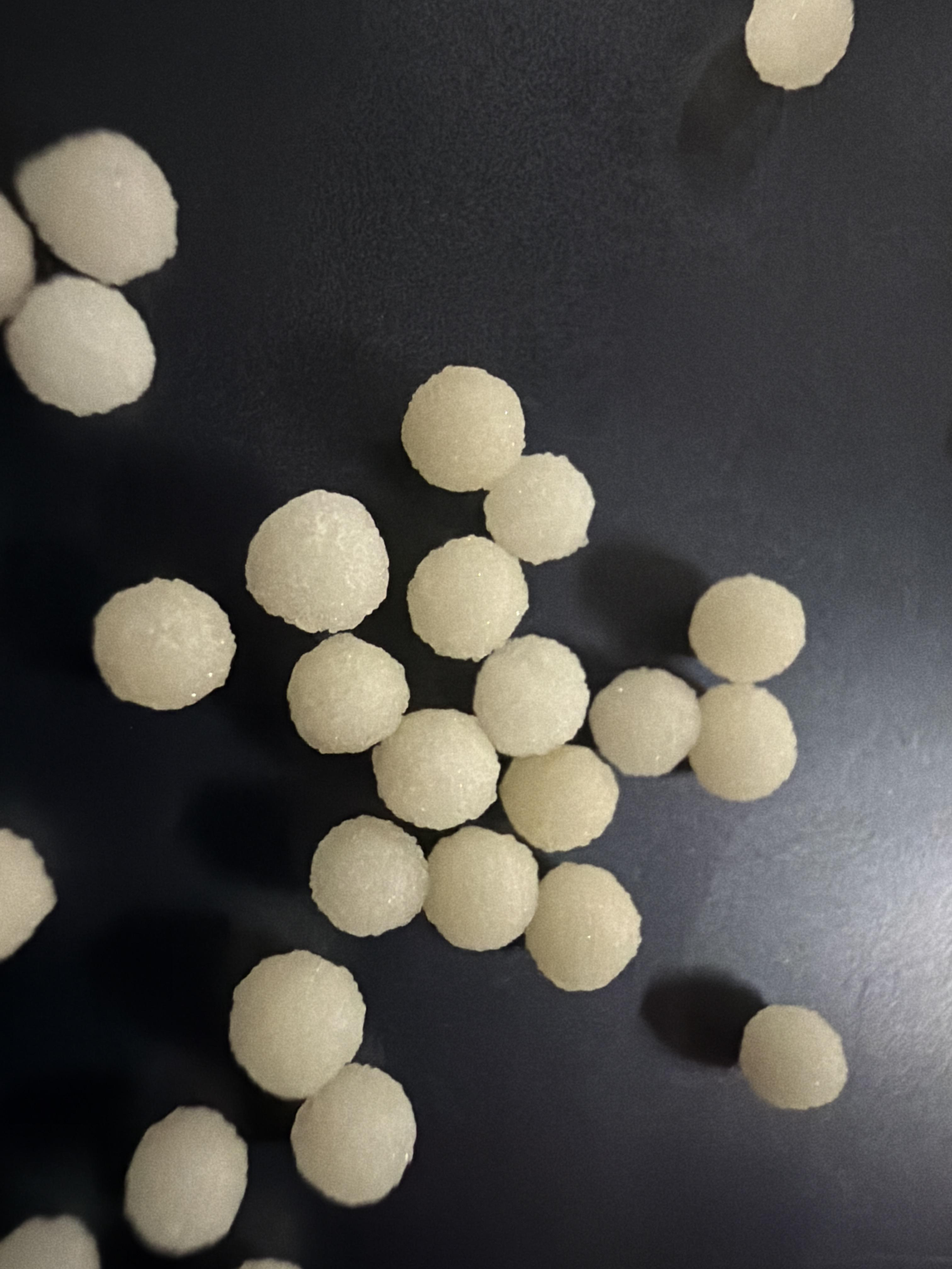pill: (15, 130, 177, 285), (6, 274, 155, 416), (246, 490, 388, 633), (230, 950, 365, 1099), (93, 578, 235, 710), (124, 1107, 247, 1256), (291, 1063, 416, 1206), (372, 709, 500, 829), (402, 366, 524, 491), (407, 535, 529, 660), (287, 633, 409, 753), (526, 862, 640, 990), (310, 815, 428, 937), (473, 635, 589, 756), (424, 826, 537, 950), (689, 684, 797, 801), (499, 745, 618, 851), (689, 574, 805, 682), (484, 453, 595, 564), (589, 667, 701, 776), (740, 1005, 847, 1109), (745, 0, 854, 90), (0, 828, 57, 960), (0, 1215, 100, 1269), (0, 194, 35, 320), (240, 1258, 299, 1269)
